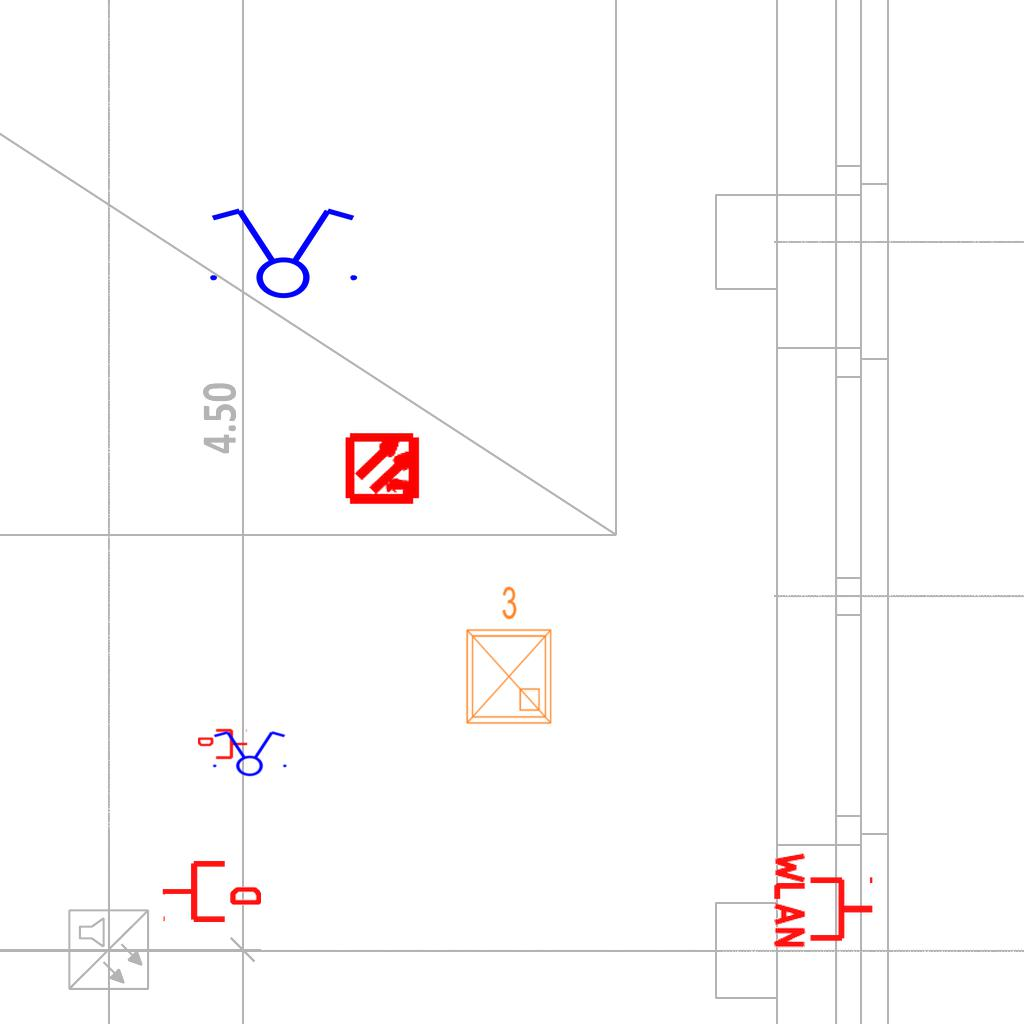Datenanschluss_einfach: (161, 857, 261, 926), (198, 727, 248, 761)
Einbaudownlights_LED_Konferenzraeume: (455, 581, 559, 731)
OT_Multisensormelder_(Kombination_RMO_WMD): (328, 412, 441, 525)
Serienschalter: (198, 204, 366, 300), (207, 729, 291, 777)
WLAN: (772, 848, 877, 952)
